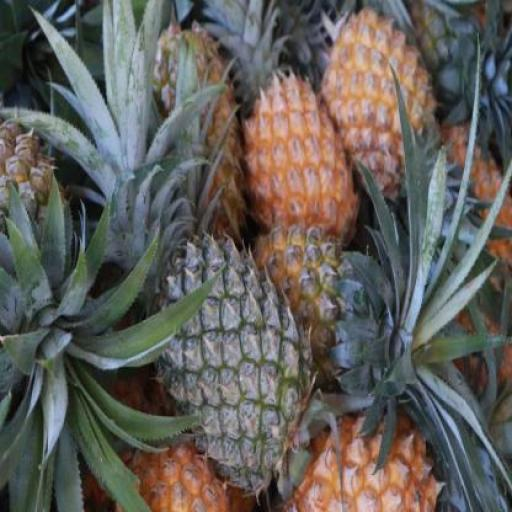Pineapple - v8 v1: (322, 5, 436, 212), (242, 74, 356, 256)
